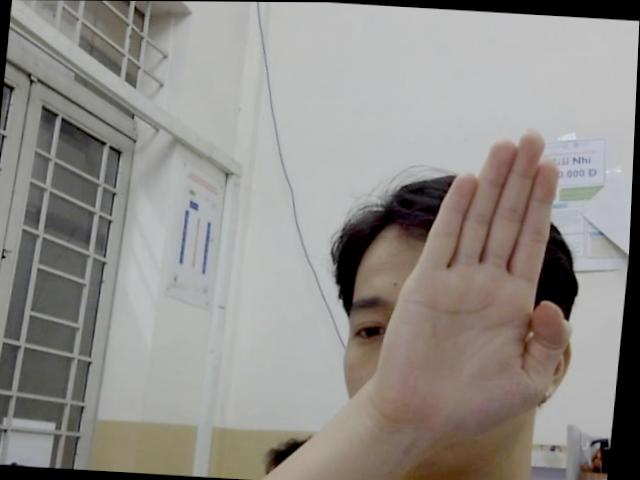B: (381, 127, 604, 438)
